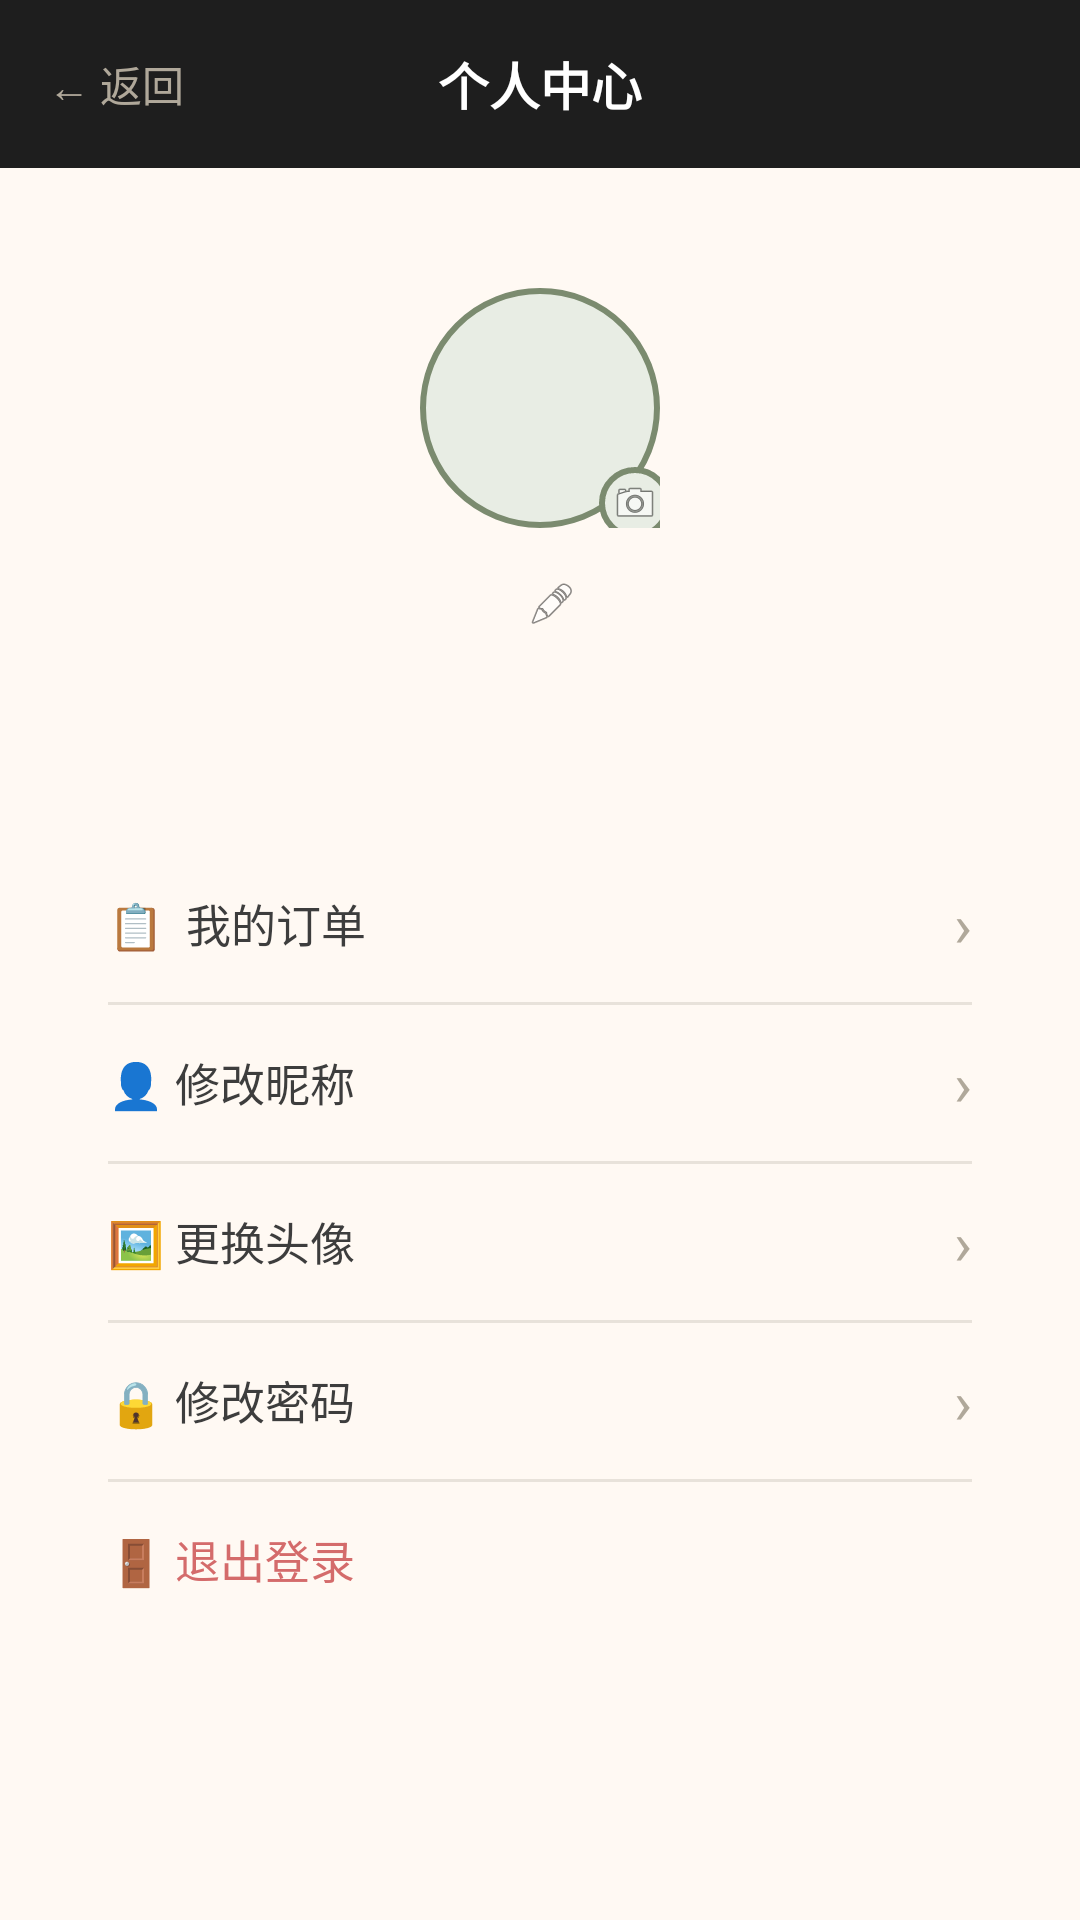

Icon click points for this 1080 x 1920 phone screenshot, format (x,y):
edit: (551,603)
